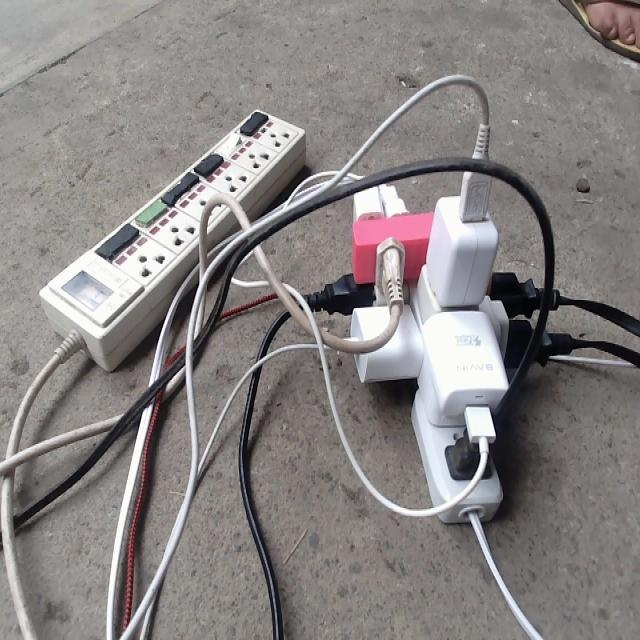-: (303, 74, 573, 522)
